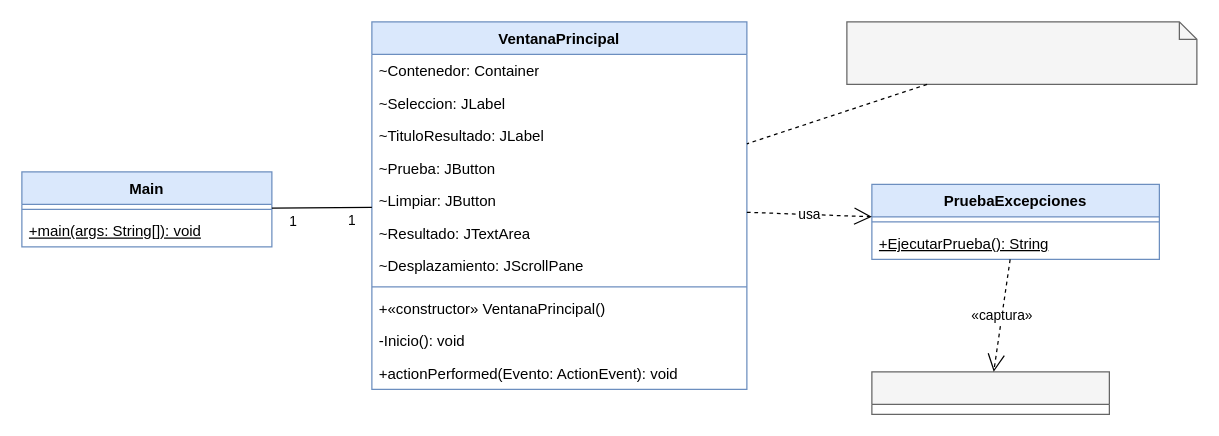
The diagram is 1219 pixels wide and 436 high, and some of its shapes have lost their labels. The shapes that lost their labels are listed below. From the top down, each one's centre as x and y in pixels, then its label:
At pixel 1021 52: "VentanaPrincipal extiende JFrame e implementa ActionListener.".
At pixel 990 392: "ArithmeticException".
